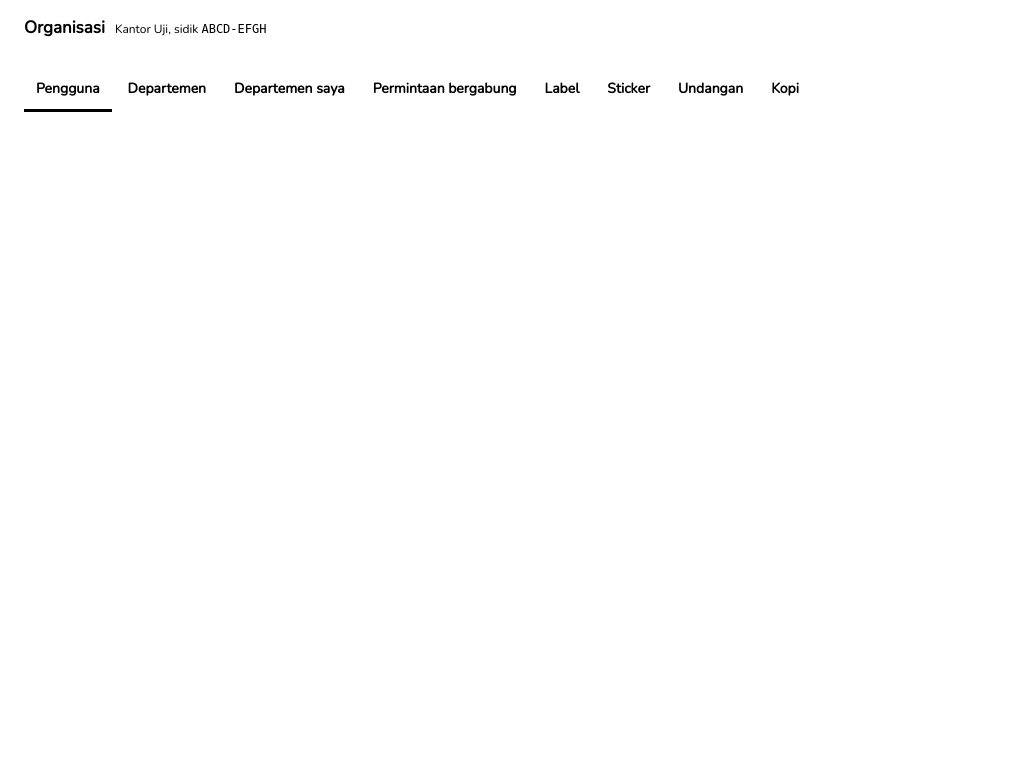
Test: Departemen: keadaan › kosong untuk superadmin mengajak membuat departemen
Click the button "Departemen" at (167, 90), box [116,68,218,112]
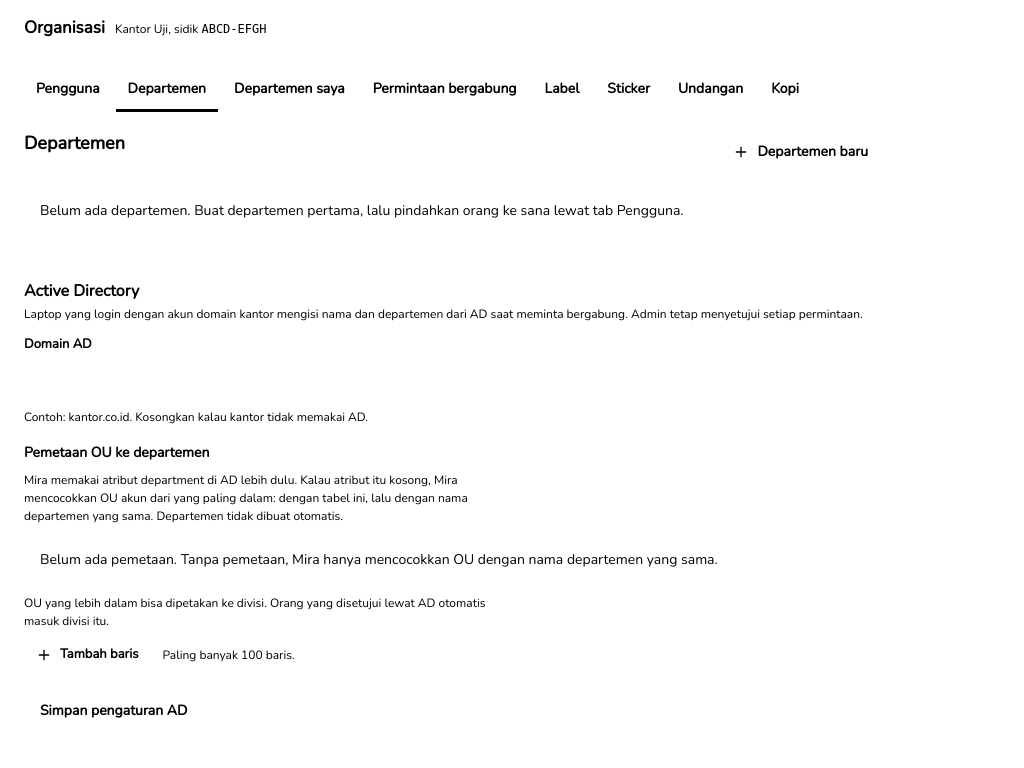
Expected: the text "Belum ada departemen. Buat departemen pertama, lalu pindahkan orang ke sana lewat tab Pengguna." is shown, [40,200,684,220]
Expected: the button "Departemen baru" is shown, [718,130,884,174]
